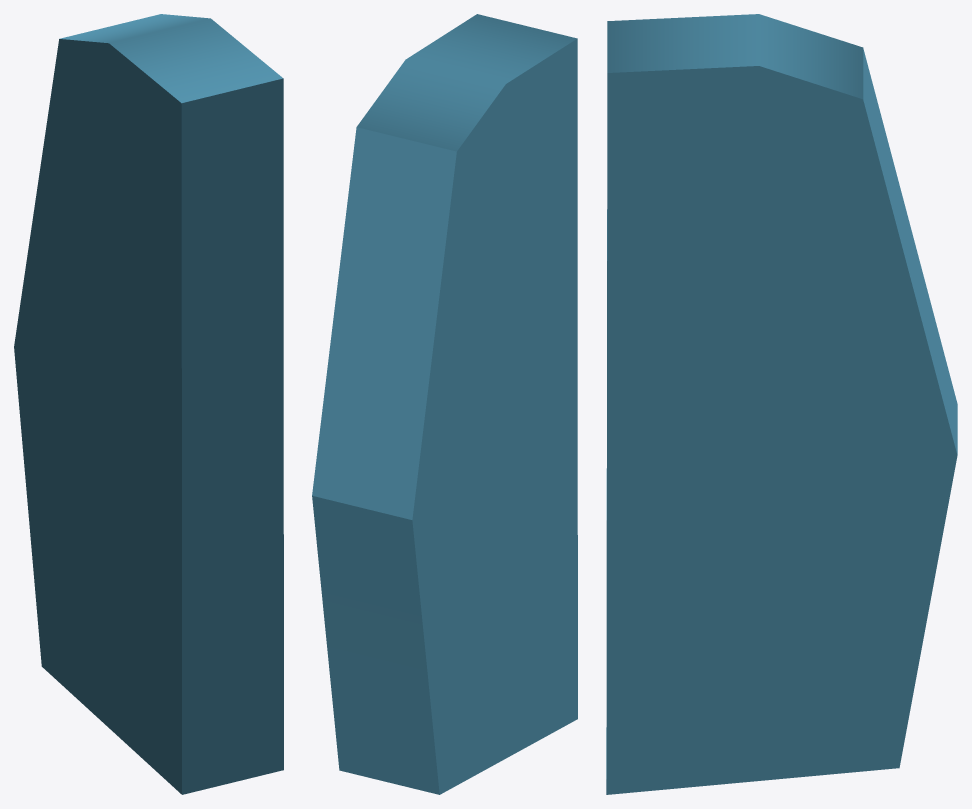
The model's file is NexusC_Trigger_24.fbx.
The picture shows the model from 3 angles, left to right: view 1: azimuth 30°, elevation 25°; view 2: azimuth 150°, elevation 25°; view 3: azimuth 270°, elevation 25°; orthographic projection. The views are drawn at different scales.
Parts seen in each view (by area): view 1: polySurface42; view 2: polySurface42; view 3: polySurface42.
Part boxes in pixels (x1,y1,x2,y2): polySurface42: (14,14,283,794); polySurface42: (312,14,577,794); polySurface42: (606,14,957,794).
Bounding box in the file's own units: 9.22 × 60.37 × 26.34.
